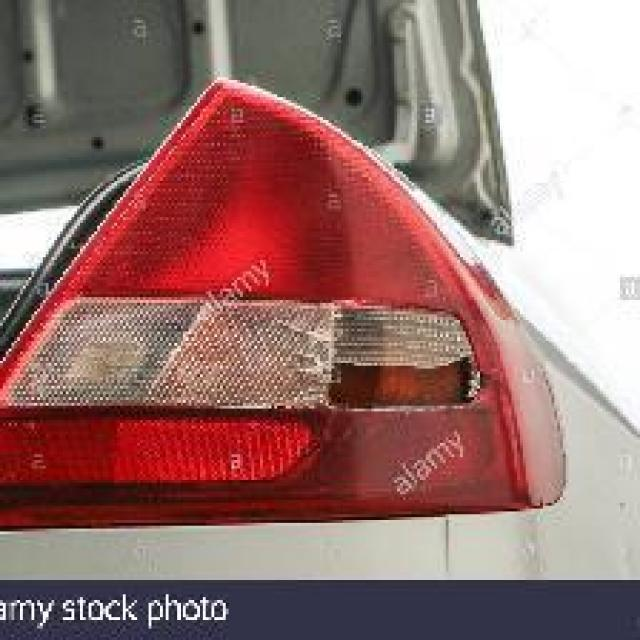damaged: (274, 314, 492, 414)
